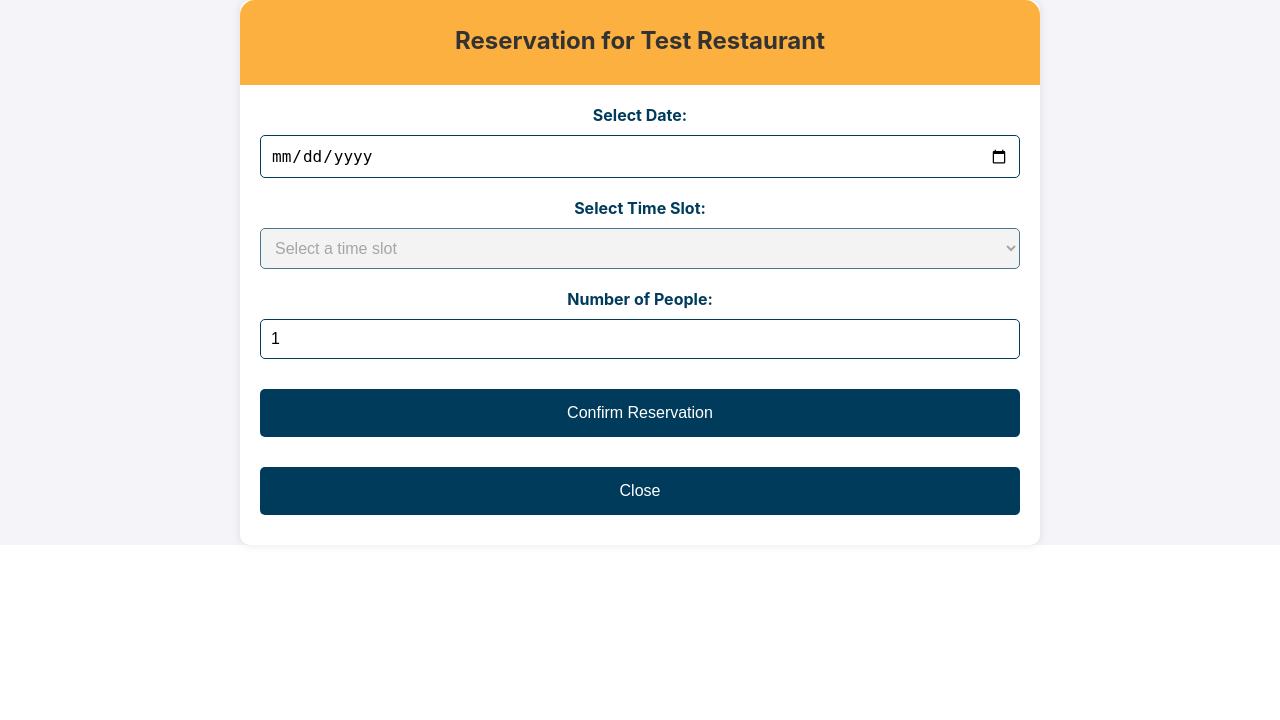
ReservationPage › Number of People input › enforces minimum value on blur
Replace the text in the number field labelled "Number of People:" with "0". click: {"x": 640, "y": 339}
box: [260,319,1020,359]
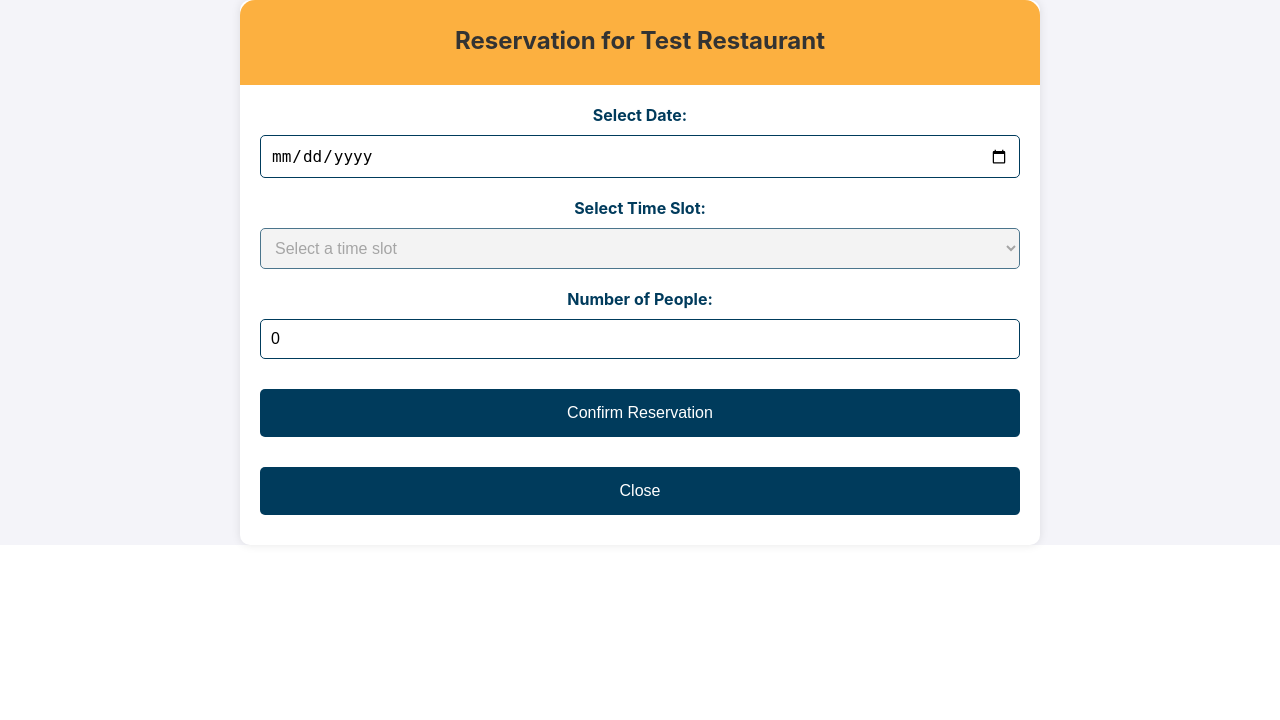
Leave the number field labelled "Number of People:", box [260,319,1020,359]
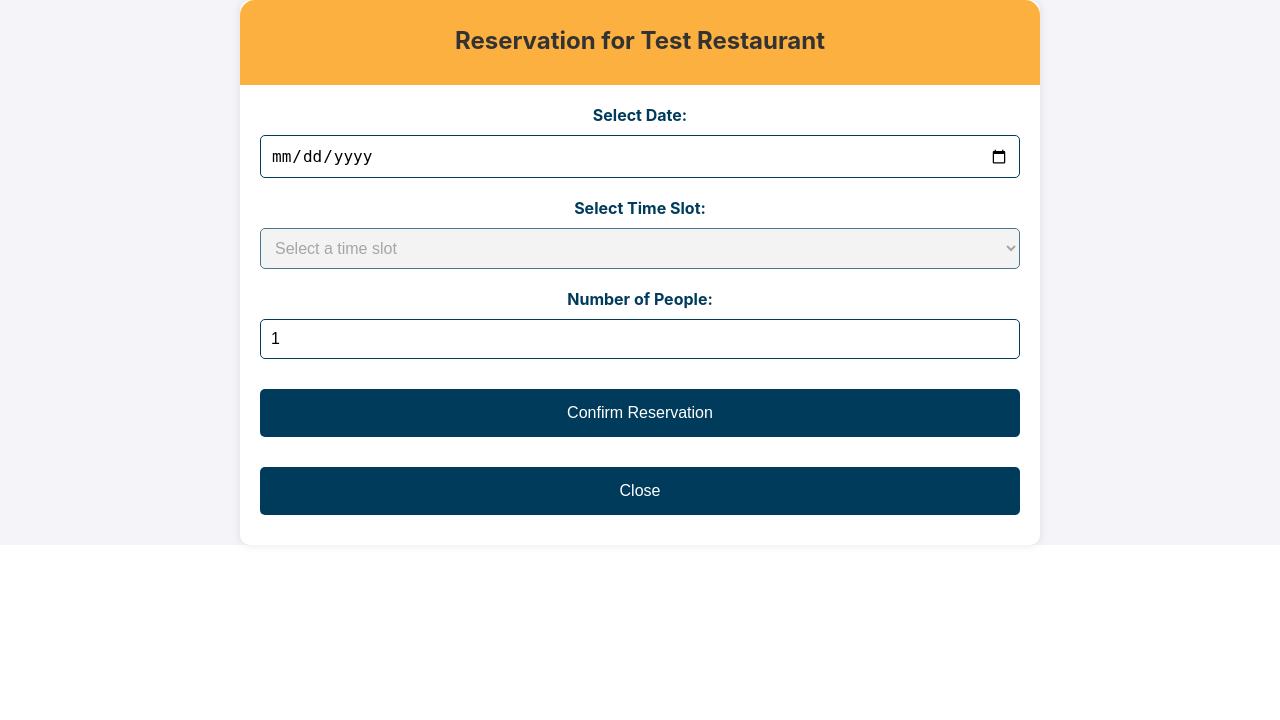
expect the number field labelled "Number of People:" holds "1": met, box [260,319,1020,359]
